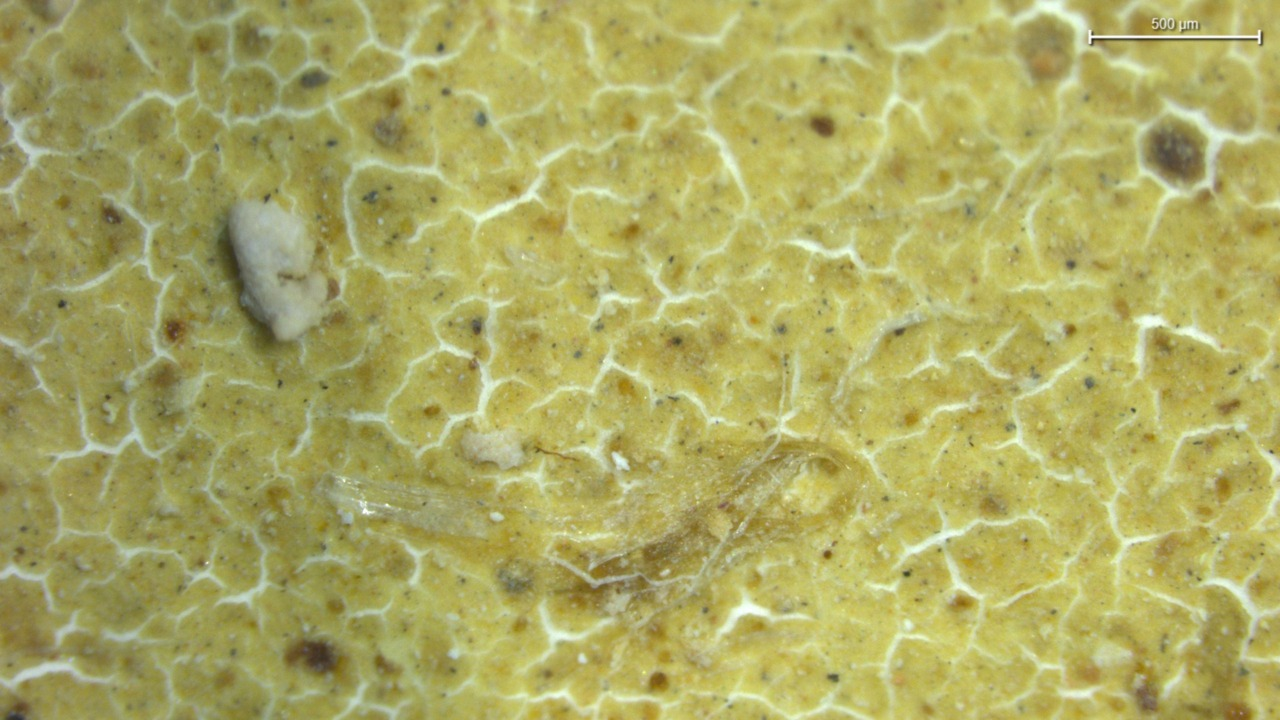microplastic_fragment: (228, 200, 332, 342), (459, 427, 524, 470)
